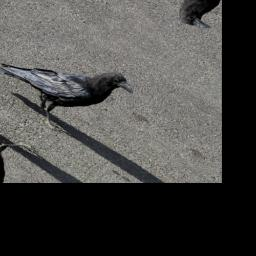Crow: (0, 23, 142, 143)
